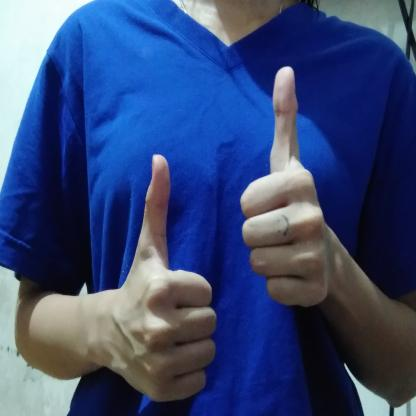which: (118, 65, 330, 408)
